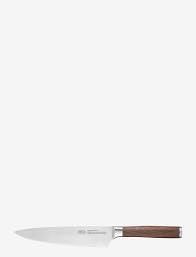Knife: (13, 224, 182, 247)
